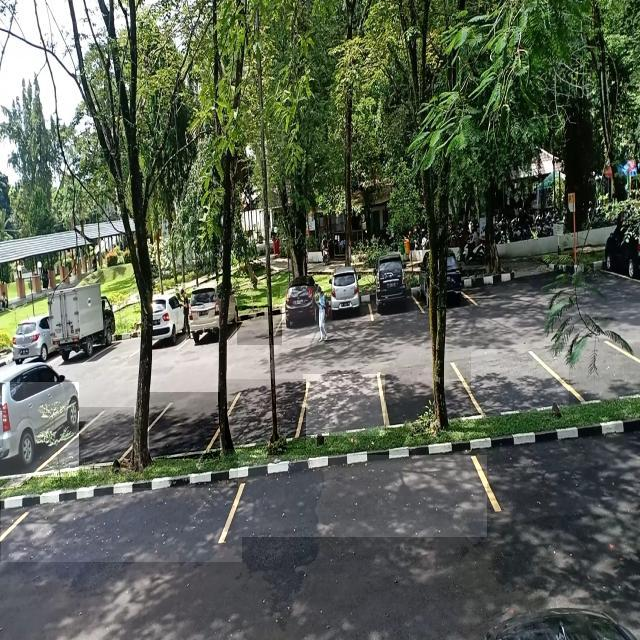empty: (238, 455, 487, 537), (1, 488, 242, 562), (472, 349, 570, 413), (225, 379, 306, 449), (384, 365, 471, 426), (304, 374, 386, 436), (149, 392, 220, 459), (67, 408, 134, 468), (236, 306, 282, 345)
occupied: (0, 382, 79, 477), (185, 290, 237, 347), (280, 286, 327, 338), (372, 269, 417, 320), (324, 280, 372, 326)
